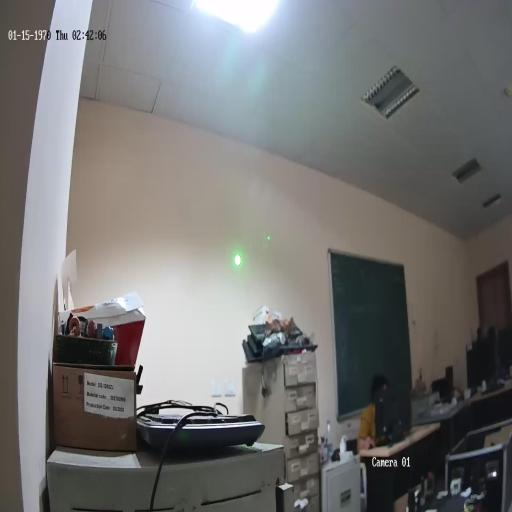laser: (232, 250, 242, 268)
